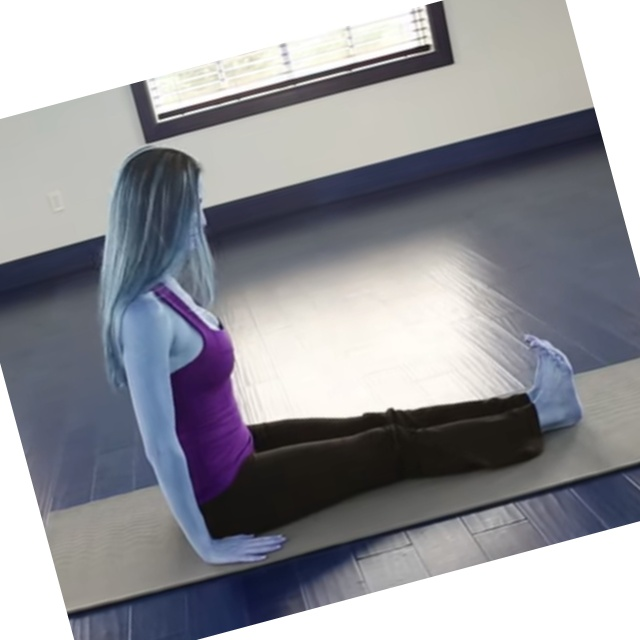Staff_Pose: (102, 146, 585, 567)
